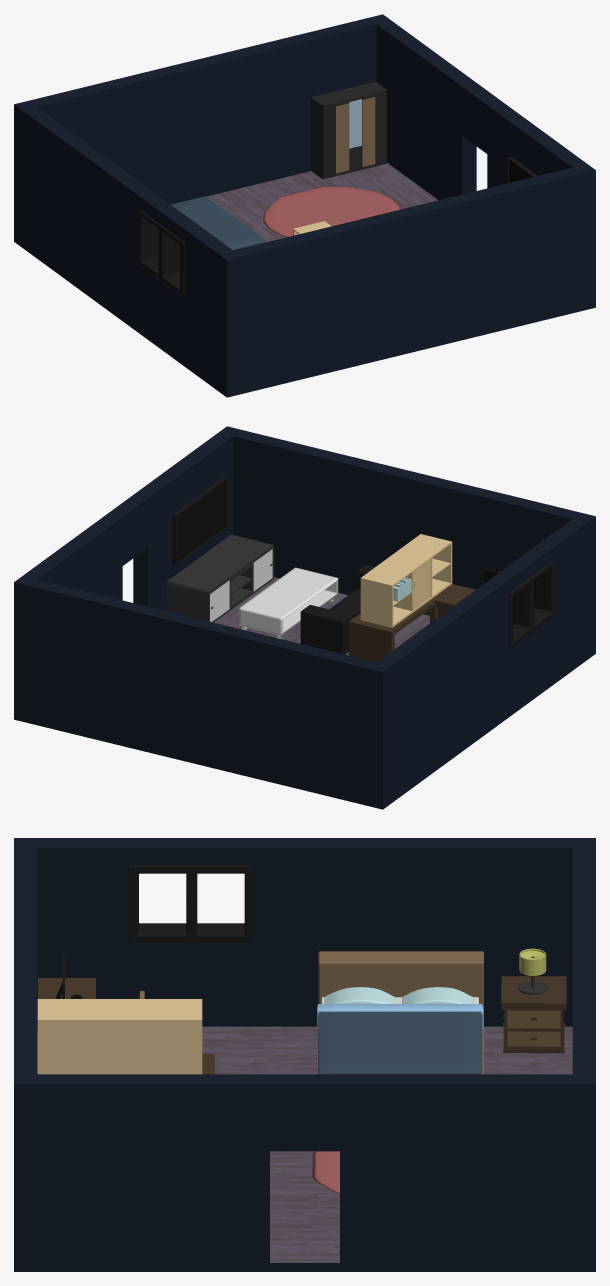
3 views of the same model, one above another, from view 1: azimuth 30°, elevation 25°; view 2: azimuth 150°, elevation 25°; view 3: azimuth 270°, elevation 25° (orthographic). The views are drawn at different scales.
Parts seen in each view (by area): view 1: polySurface6, pCube24, pCube15, pCube25, polySurface7; view 2: polySurface6, pCube10, pCube26, pCube9, pCube11, pCube8, pCube25, pCube7; view 3: polySurface6, pCube26, polySurface7, pCube2, pCube25, pCube13, polySurface8, pCube8, pCylinder1, pCube15, pCube5, pCube4.
Boxes of the visible parts, x1,y1,x2,y2 form: polySurface6: [14, 14, 595, 397]; pCube24: [311, 81, 386, 179]; pCube15: [263, 186, 400, 237]; pCube25: [138, 210, 184, 297]; polySurface7: [171, 196, 265, 250]; polySurface6: [14, 426, 595, 809]; pCube10: [167, 534, 274, 622]; pCube26: [360, 534, 452, 627]; pCube9: [239, 567, 338, 638]; pCube11: [172, 477, 227, 564]; pCube8: [349, 584, 475, 662]; pCube25: [508, 560, 555, 647]; pCube7: [300, 564, 374, 654]; polySurface6: [14, 838, 595, 1271]; pCube26: [37, 999, 202, 1074]; polySurface7: [318, 1012, 482, 1074]; pCube2: [318, 951, 483, 1074]; pCube25: [128, 865, 252, 941]; pCube13: [501, 976, 566, 1053]; polySurface8: [317, 997, 483, 1029]; pCube8: [38, 978, 214, 1074]; pCylinder1: [518, 948, 547, 994]; pCube15: [312, 1151, 339, 1194]; pCube5: [402, 987, 473, 1003]; pCube4: [324, 987, 395, 1003].
Size of the model in its own units: 21.86 by 7.75 by 21.77.
